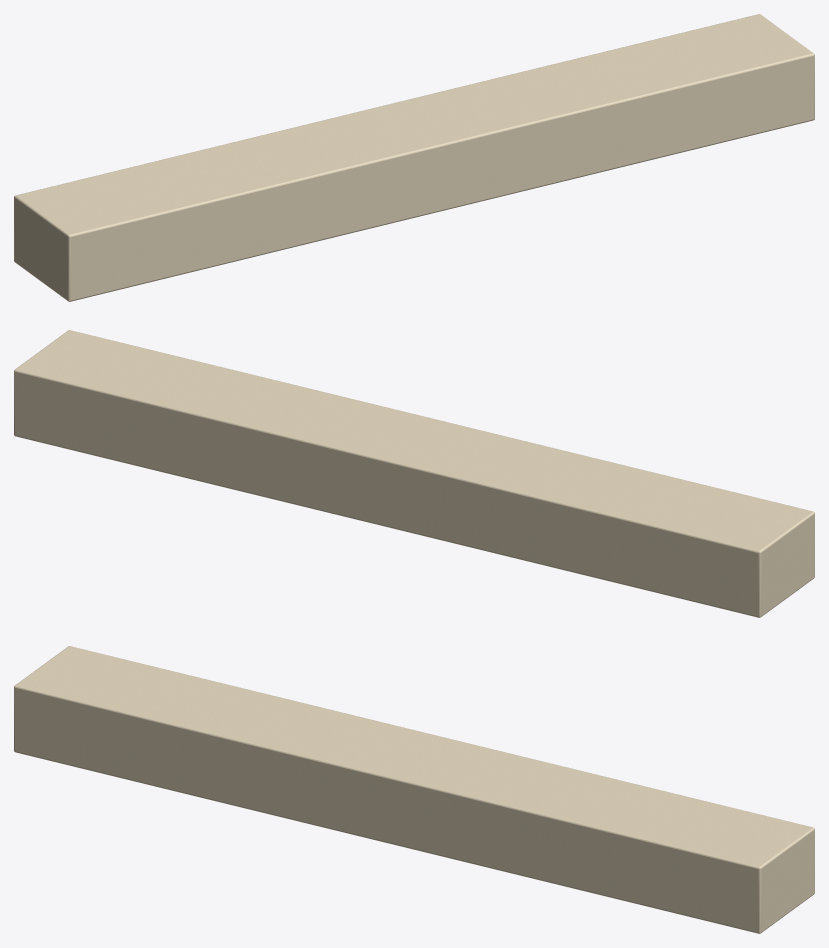
The model's file is 33_ceiling_soffit.glb.
3 views of the same model, one above another, from view 1: azimuth 30°, elevation 25°; view 2: azimuth 150°, elevation 25°; view 3: azimuth 330°, elevation 25° (orthographic).
Visible parts, largest first — view 1: 33_ceiling_soffit__cream_soffit; view 2: 33_ceiling_soffit__cream_soffit; view 3: 33_ceiling_soffit__cream_soffit.
Boxes of the visible parts, x1=… form: 33_ceiling_soffit__cream_soffit: x1=14, y1=14, x2=814, y2=301; 33_ceiling_soffit__cream_soffit: x1=14, y1=330, x2=814, y2=617; 33_ceiling_soffit__cream_soffit: x1=14, y1=646, x2=814, y2=933.
Size of the model in its own units: 3.5 by 0.319 by 0.45.
4 materials, 4 textured.
